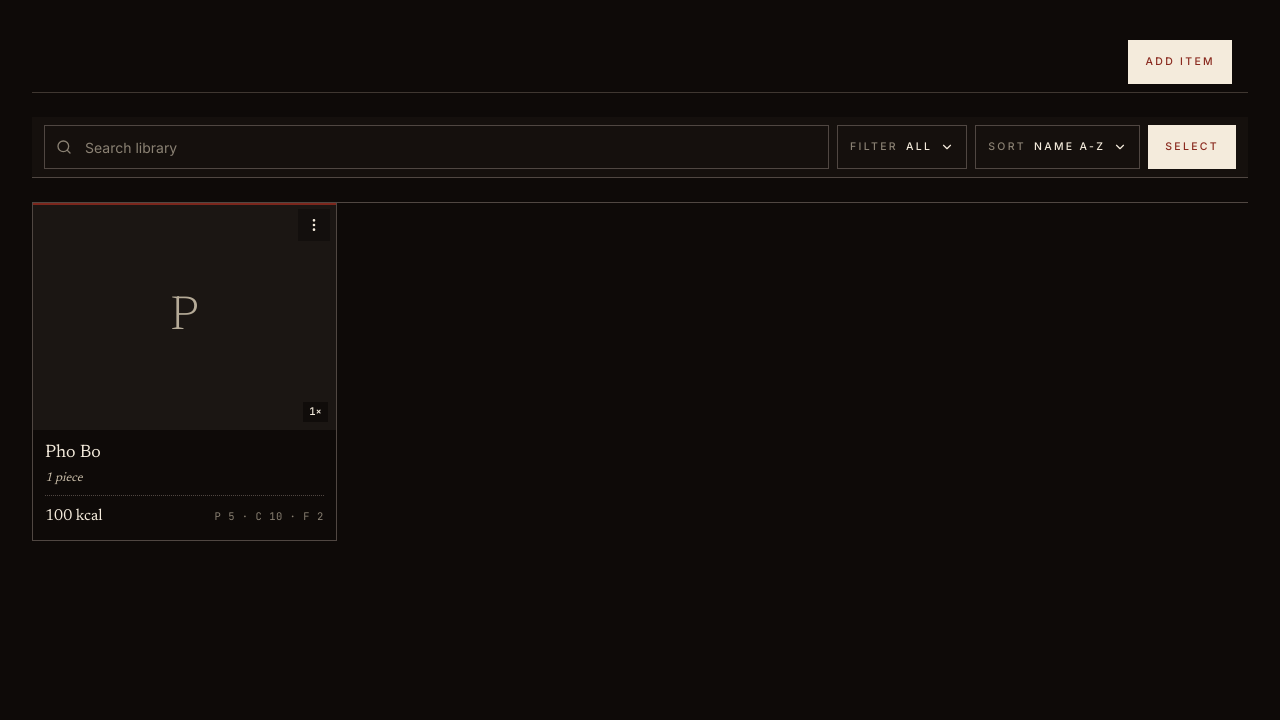
Test: <LibraryClient /> quick-action menu wiring (Bug 3) › Delete action opens the BulkDeleteConfirmDialog in single-item mode
This screenshot has width=1280, height=720.
Step 1. Click the button with test id "library-card-menu-trigger-alpha" → (314, 225), box x1=298 y1=209 x2=330 y2=241
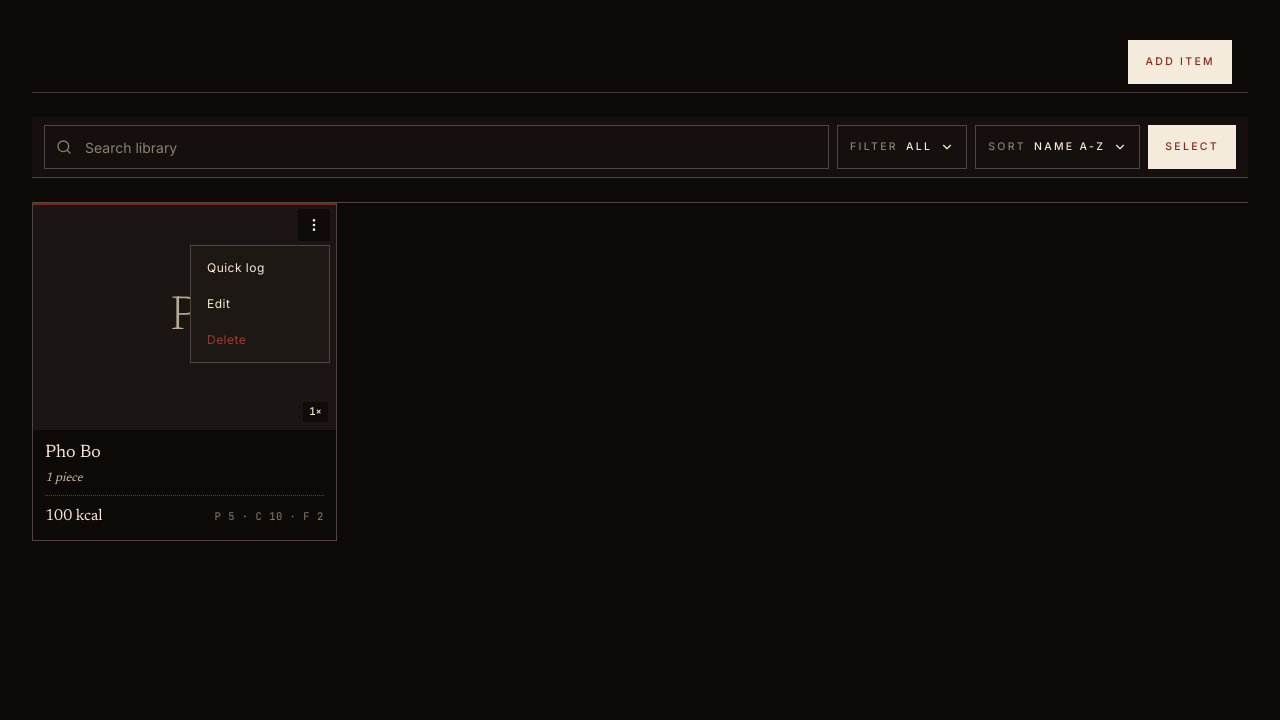
Step 2. Click the menu item with test id "library-card-menu-delete-alpha" → (227, 340), box x1=207 y1=332 x2=246 y2=347
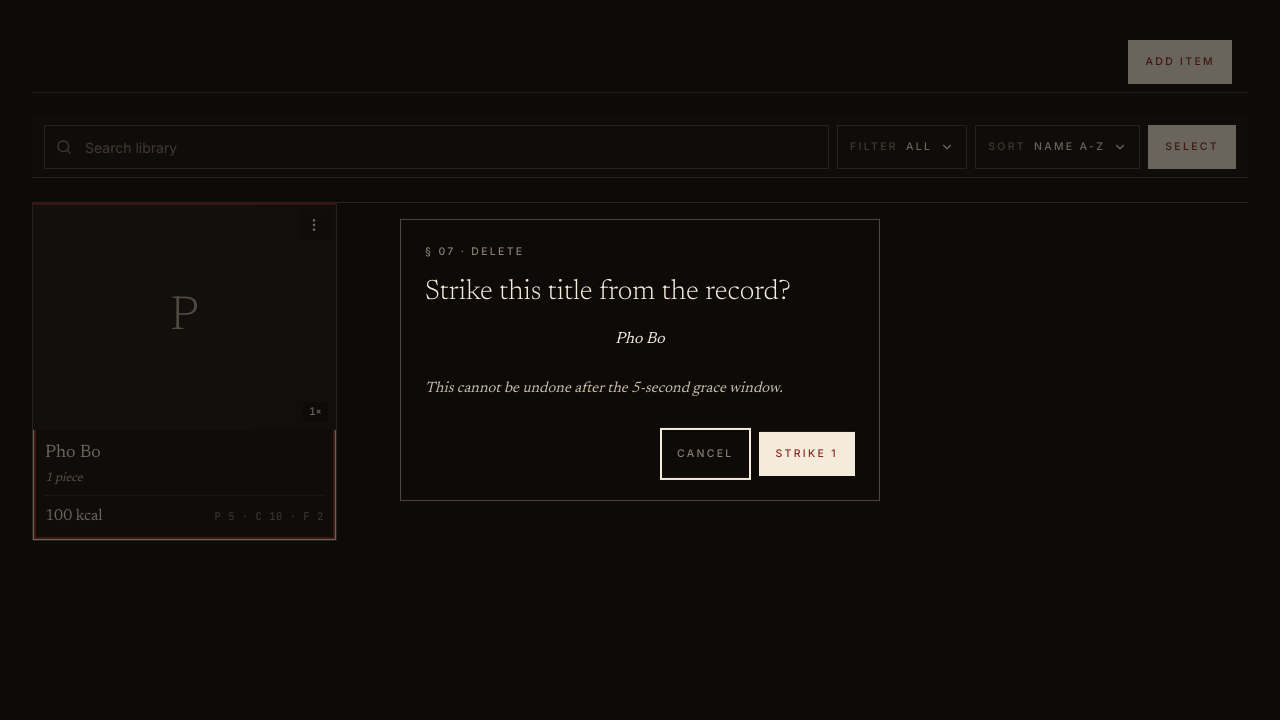
Expected: the dialog with test id "library-bulk-delete-dialog" is shown, x1=400 y1=219 x2=880 y2=501
Expected: the text with test id "library-bulk-delete-name" reads "Pho Bo", x1=615 y1=331 x2=665 y2=347
